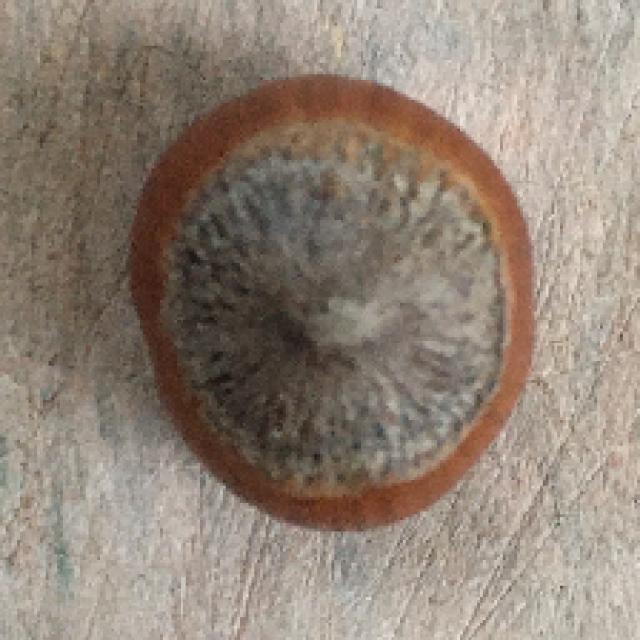qualityHazelnut: (132, 64, 535, 538)
